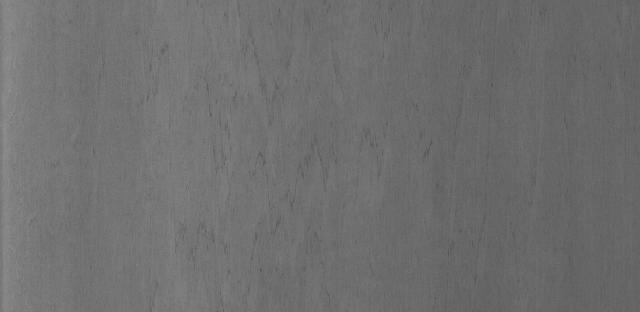silk_spot: (173, 26, 358, 256)
